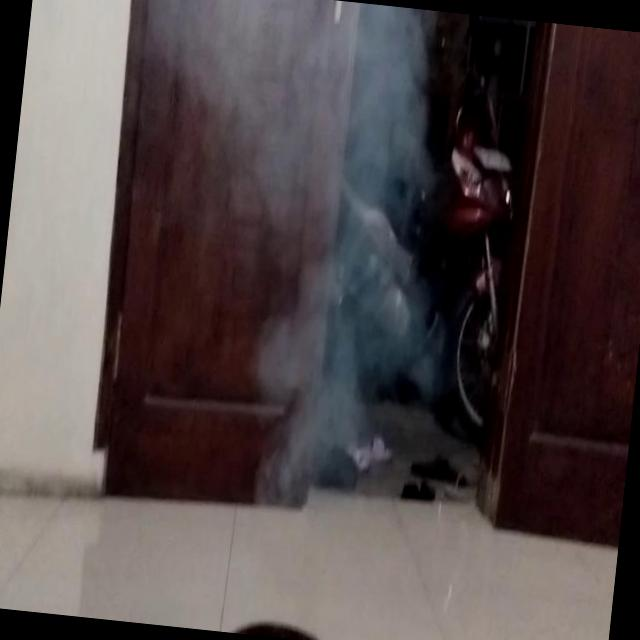smoke: (186, 0, 434, 510)
